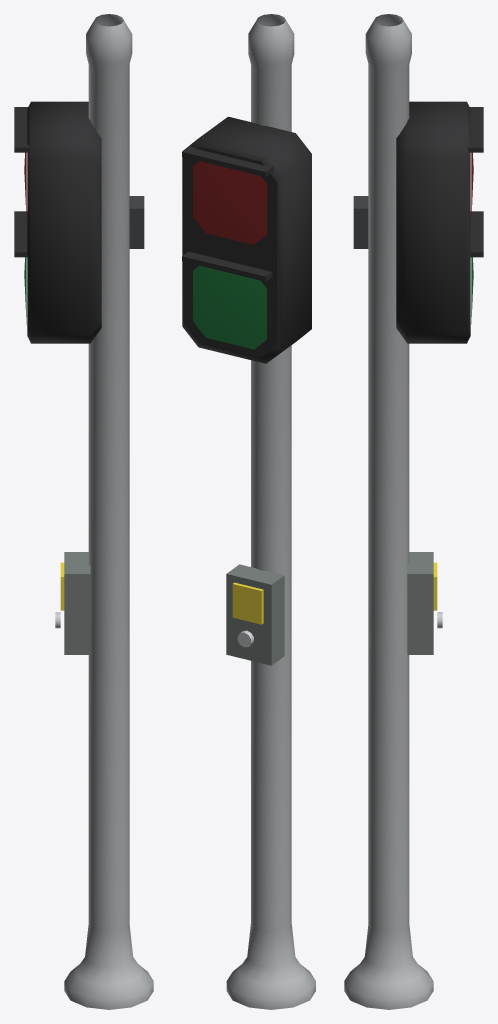
File: traffic_light_ped.glb
3 views of the same model, side by side, from view 1: azimuth 90°, elevation 25°; view 2: azimuth 150°, elevation 25°; view 3: azimuth 270°, elevation 25° (orthographic).
Visible parts, largest first — view 1: traffic_light_ped; view 2: traffic_light_ped; view 3: traffic_light_ped.
Boxes of the visible parts, x1=… form: traffic_light_ped: x1=14, y1=14, x2=153, y2=1009; traffic_light_ped: x1=182, y1=14, x2=315, y2=1009; traffic_light_ped: x1=344, y1=14, x2=483, y2=1009.
Bounding box in the file's own units: 0.31 × 2.88 × 0.375.
